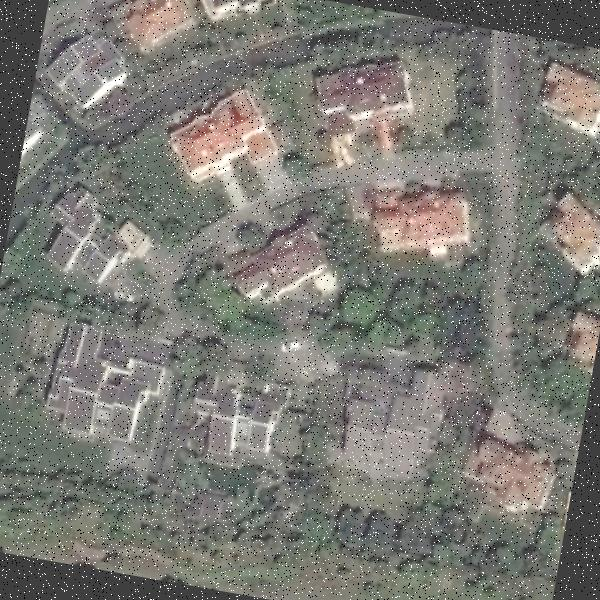Buildings: (51, 326, 164, 444), (346, 363, 435, 470), (43, 202, 143, 286), (306, 60, 413, 138), (366, 185, 470, 253), (46, 39, 142, 110), (238, 229, 326, 305), (199, 376, 283, 455), (172, 106, 270, 170), (470, 440, 553, 513), (534, 64, 600, 138), (539, 198, 600, 269), (110, 0, 188, 49), (567, 312, 600, 362), (203, 0, 281, 21), (21, 118, 40, 158)
